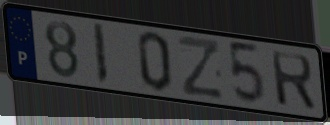0: (136, 29, 176, 95)
5: (225, 38, 268, 109)
8: (41, 16, 82, 81)
I: (90, 21, 110, 88)
R: (269, 49, 319, 114)
Z: (176, 33, 226, 101)
